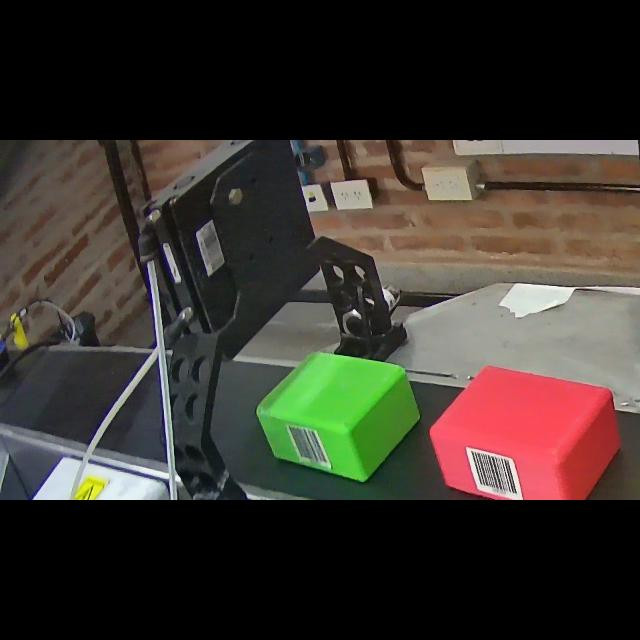greenBox: (254, 348, 424, 496)
redBox: (430, 360, 626, 500)
yellowBox: (638, 406, 640, 499)
